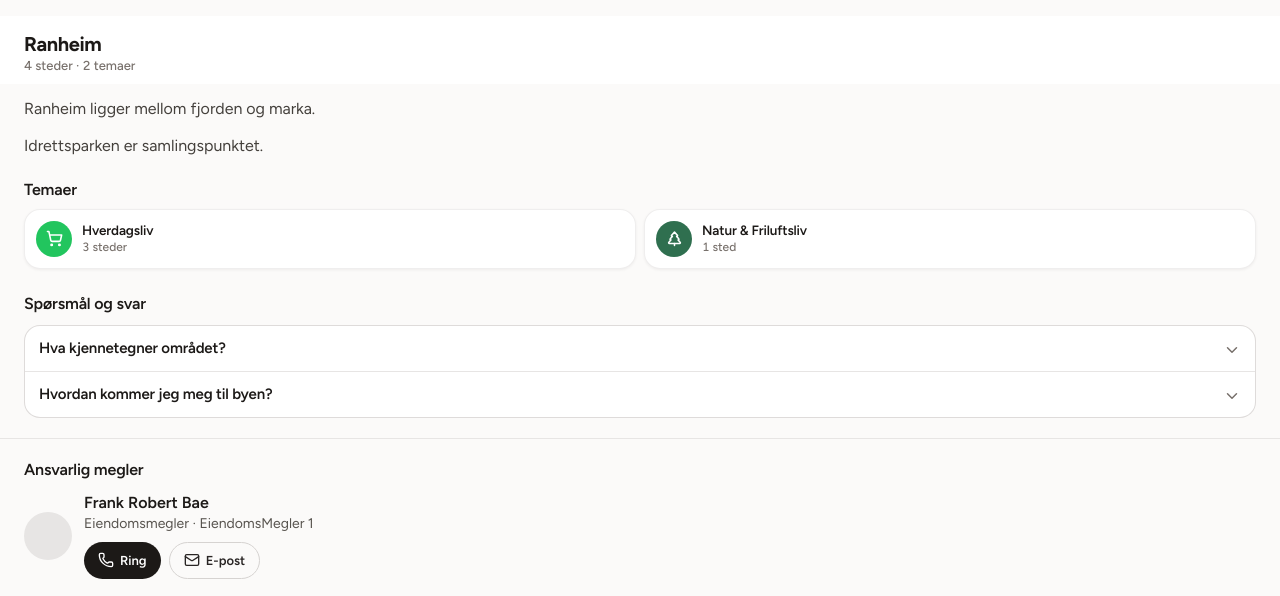
it: ett panel for alle steder — desktop-policyen (2026-09-15) › har INGEN faner og ingen snarvei til stedslista — innholdet står rett under raden
Click the text "Hverdagsliv" at [118, 230], box [82,222,153,238]
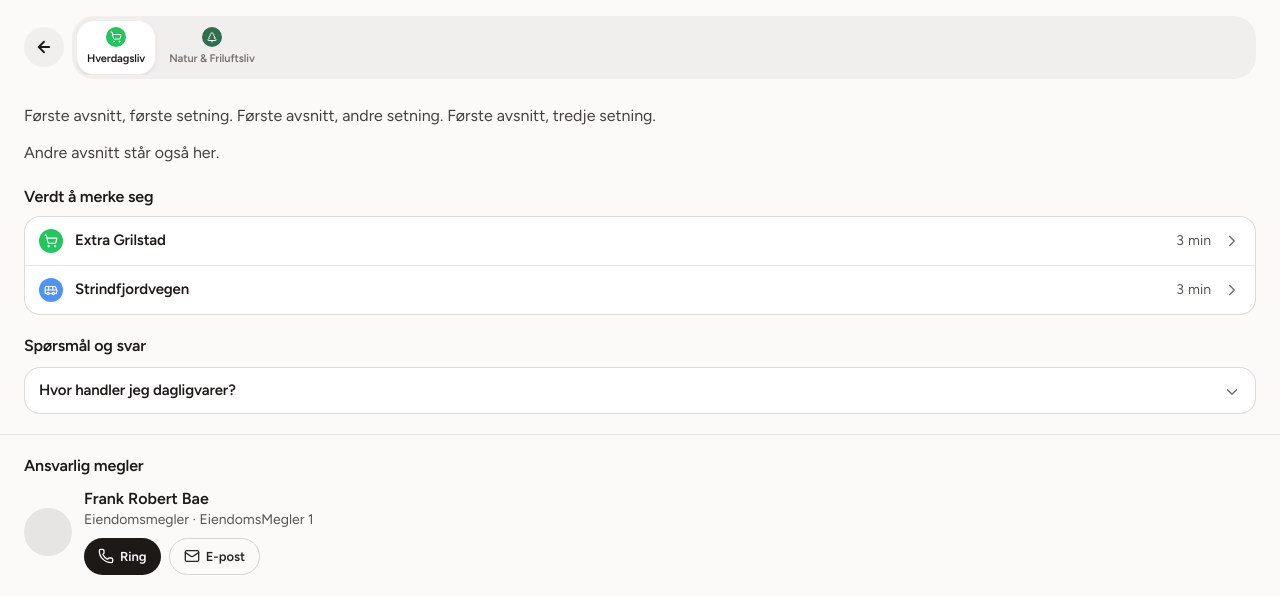
Expected: the button with test id "story-row" showing "Extra Grilstad 3 min" is shown, [25,217,1255,265]
Expected: the element with test id "story-faq" is shown, [24,335,1256,414]
